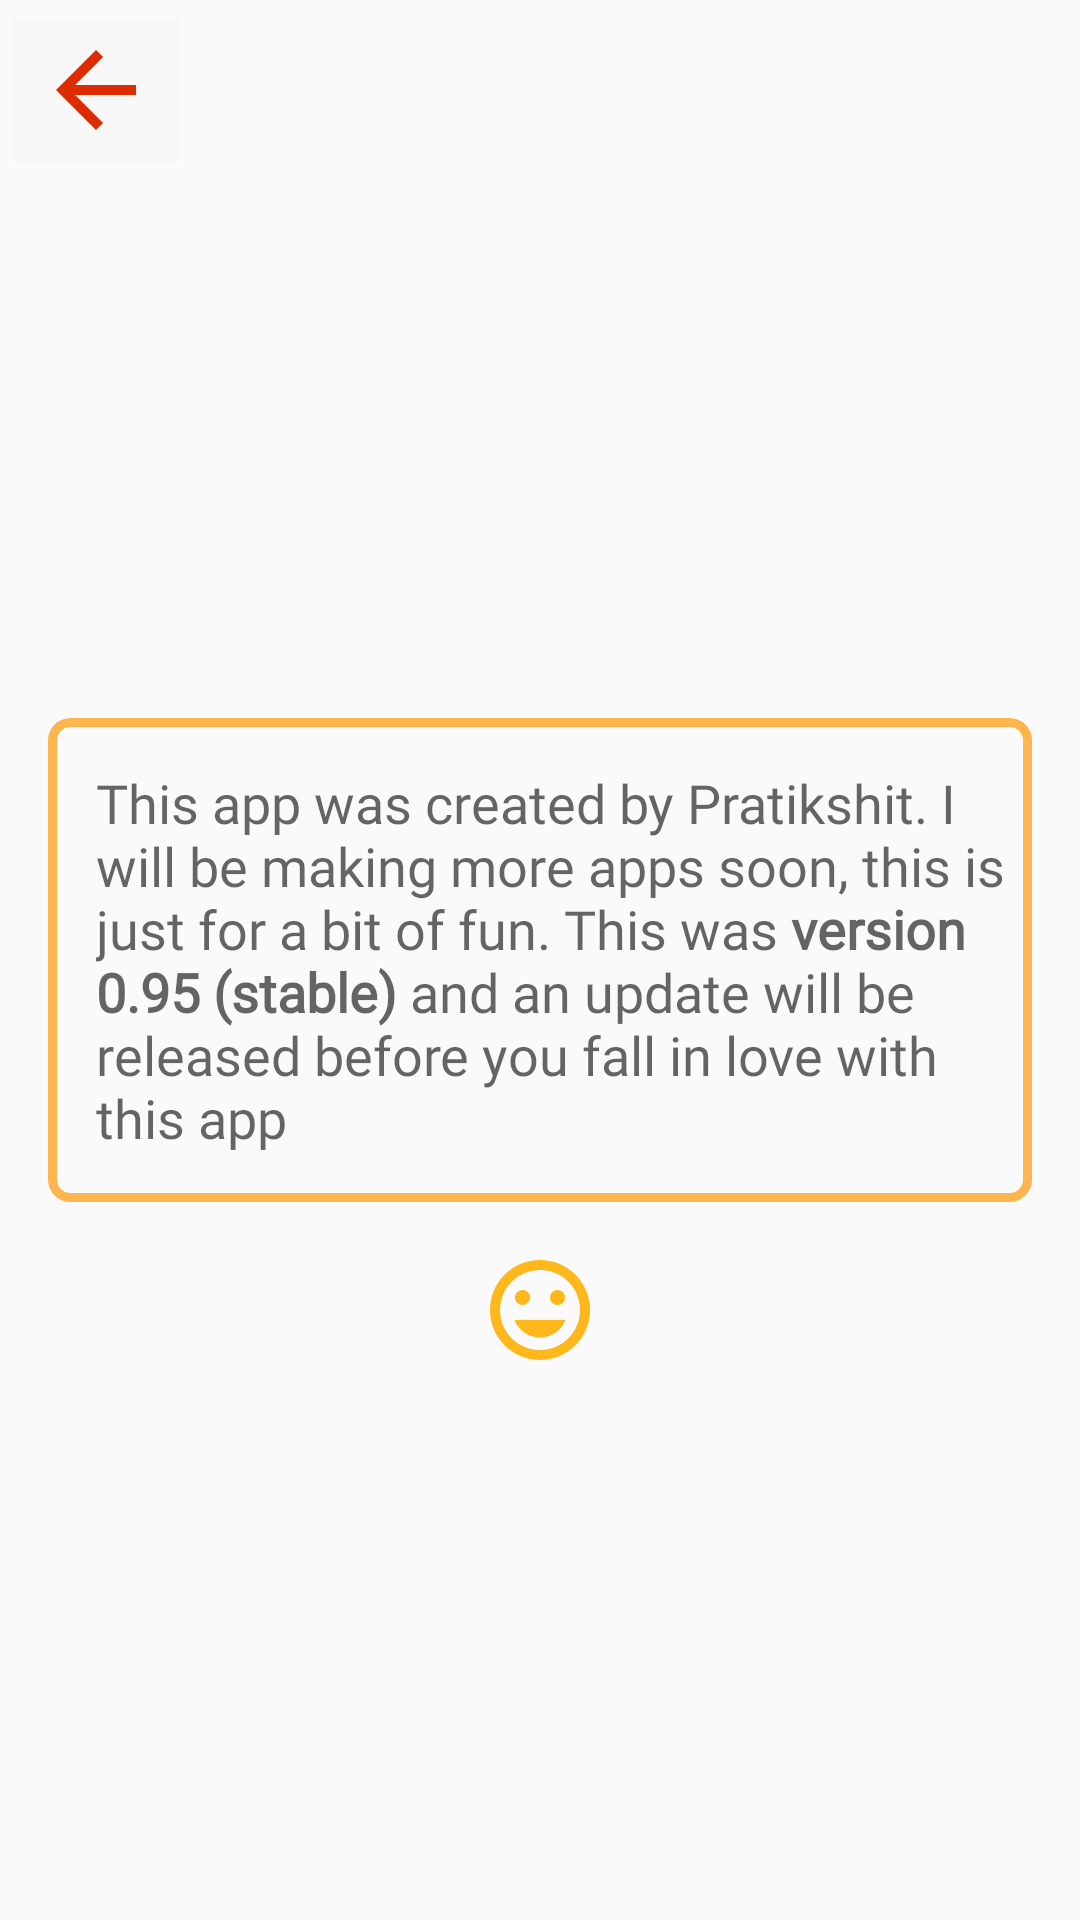

Screen size 1080x1920. Icon name, then its center in pixels as (x,y):
arrow back: (96,90)
smile: (540,1310)
